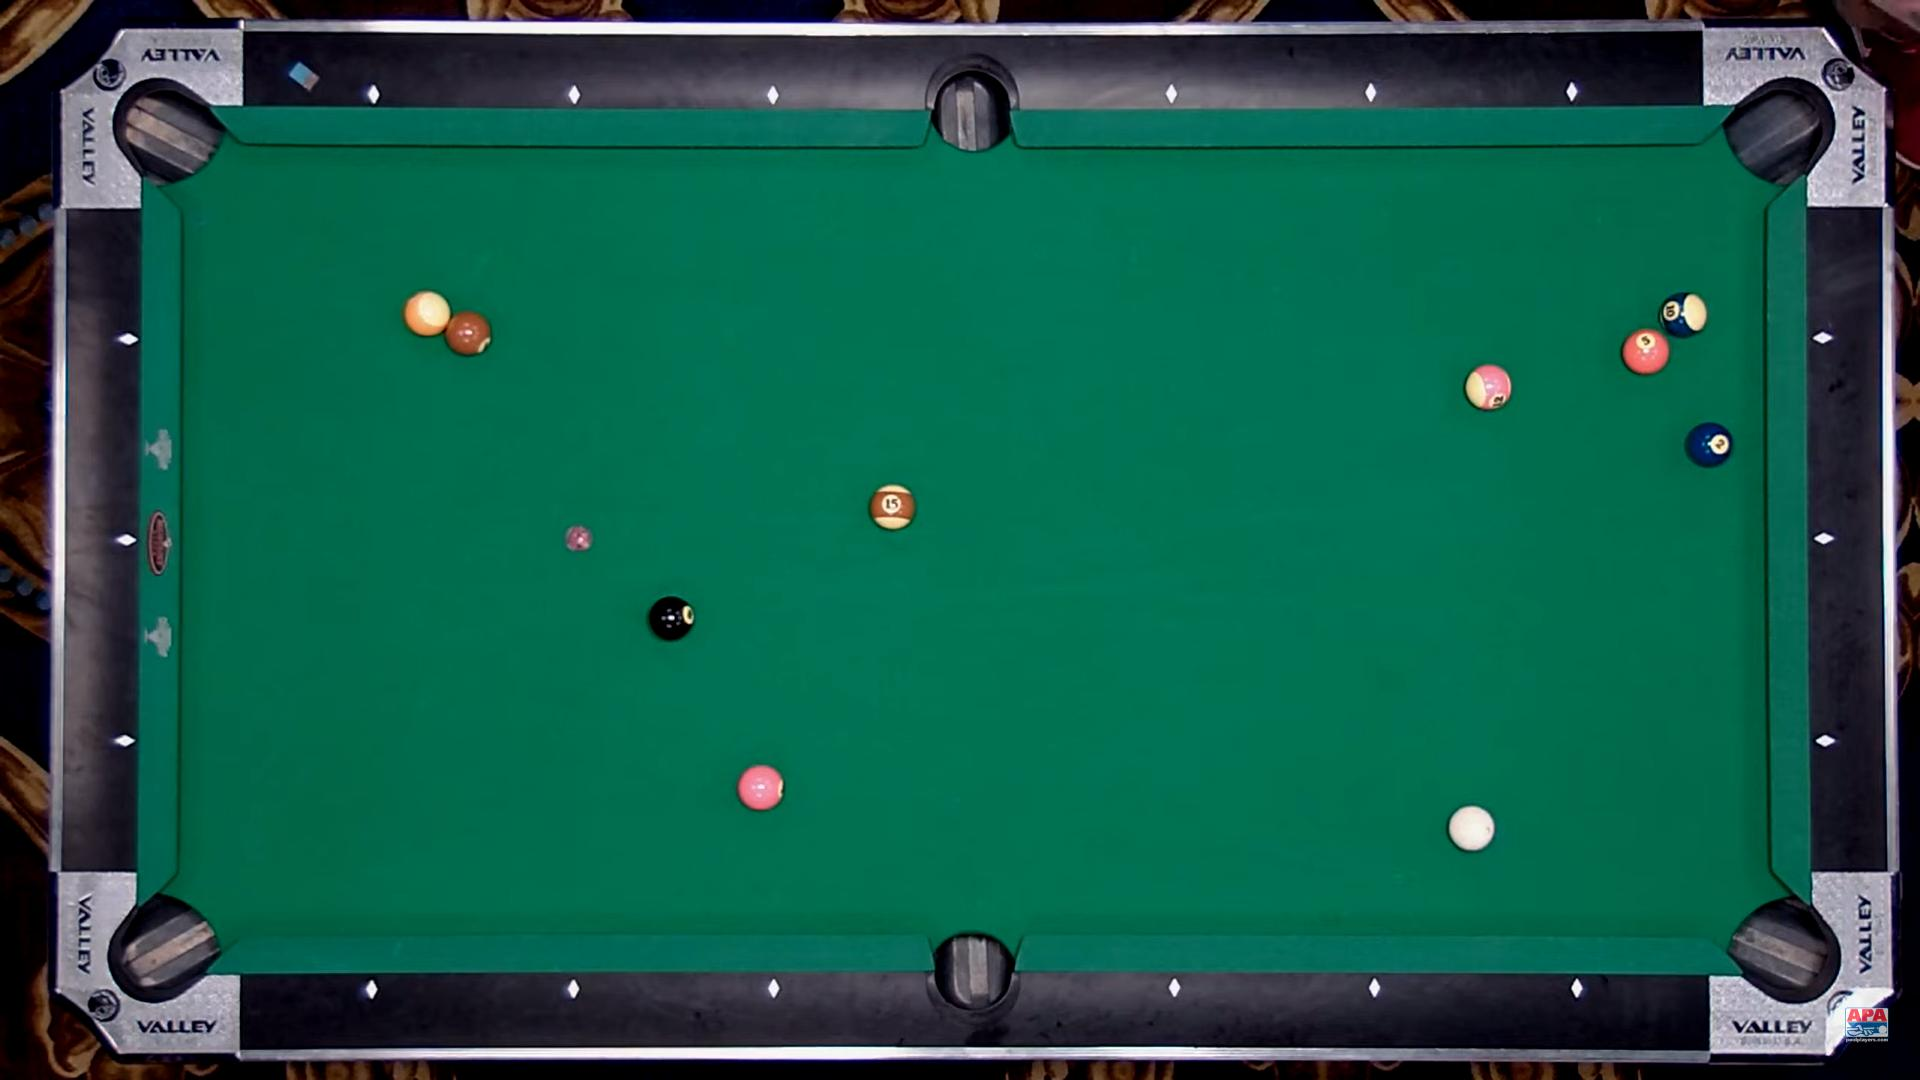Black: (649, 596, 694, 641)
Cue: (1448, 806, 1494, 851)
Dot: (116, 735, 131, 749), (120, 331, 135, 345), (367, 87, 381, 102), (120, 534, 135, 547), (567, 90, 582, 103), (766, 88, 779, 103), (1364, 86, 1378, 99), (1565, 86, 1578, 100), (1816, 331, 1829, 345), (1817, 534, 1832, 547), (1818, 735, 1833, 748), (1569, 981, 1582, 996), (1367, 982, 1382, 996), (767, 981, 781, 996), (564, 982, 579, 996), (1164, 88, 1178, 102), (1168, 981, 1182, 994), (364, 984, 377, 997)
Solid: (1684, 422, 1733, 468), (1622, 328, 1669, 375), (738, 766, 785, 811), (444, 311, 491, 356)
Striped: (1658, 291, 1708, 338), (1465, 365, 1513, 411), (404, 290, 451, 336), (870, 484, 915, 530)
